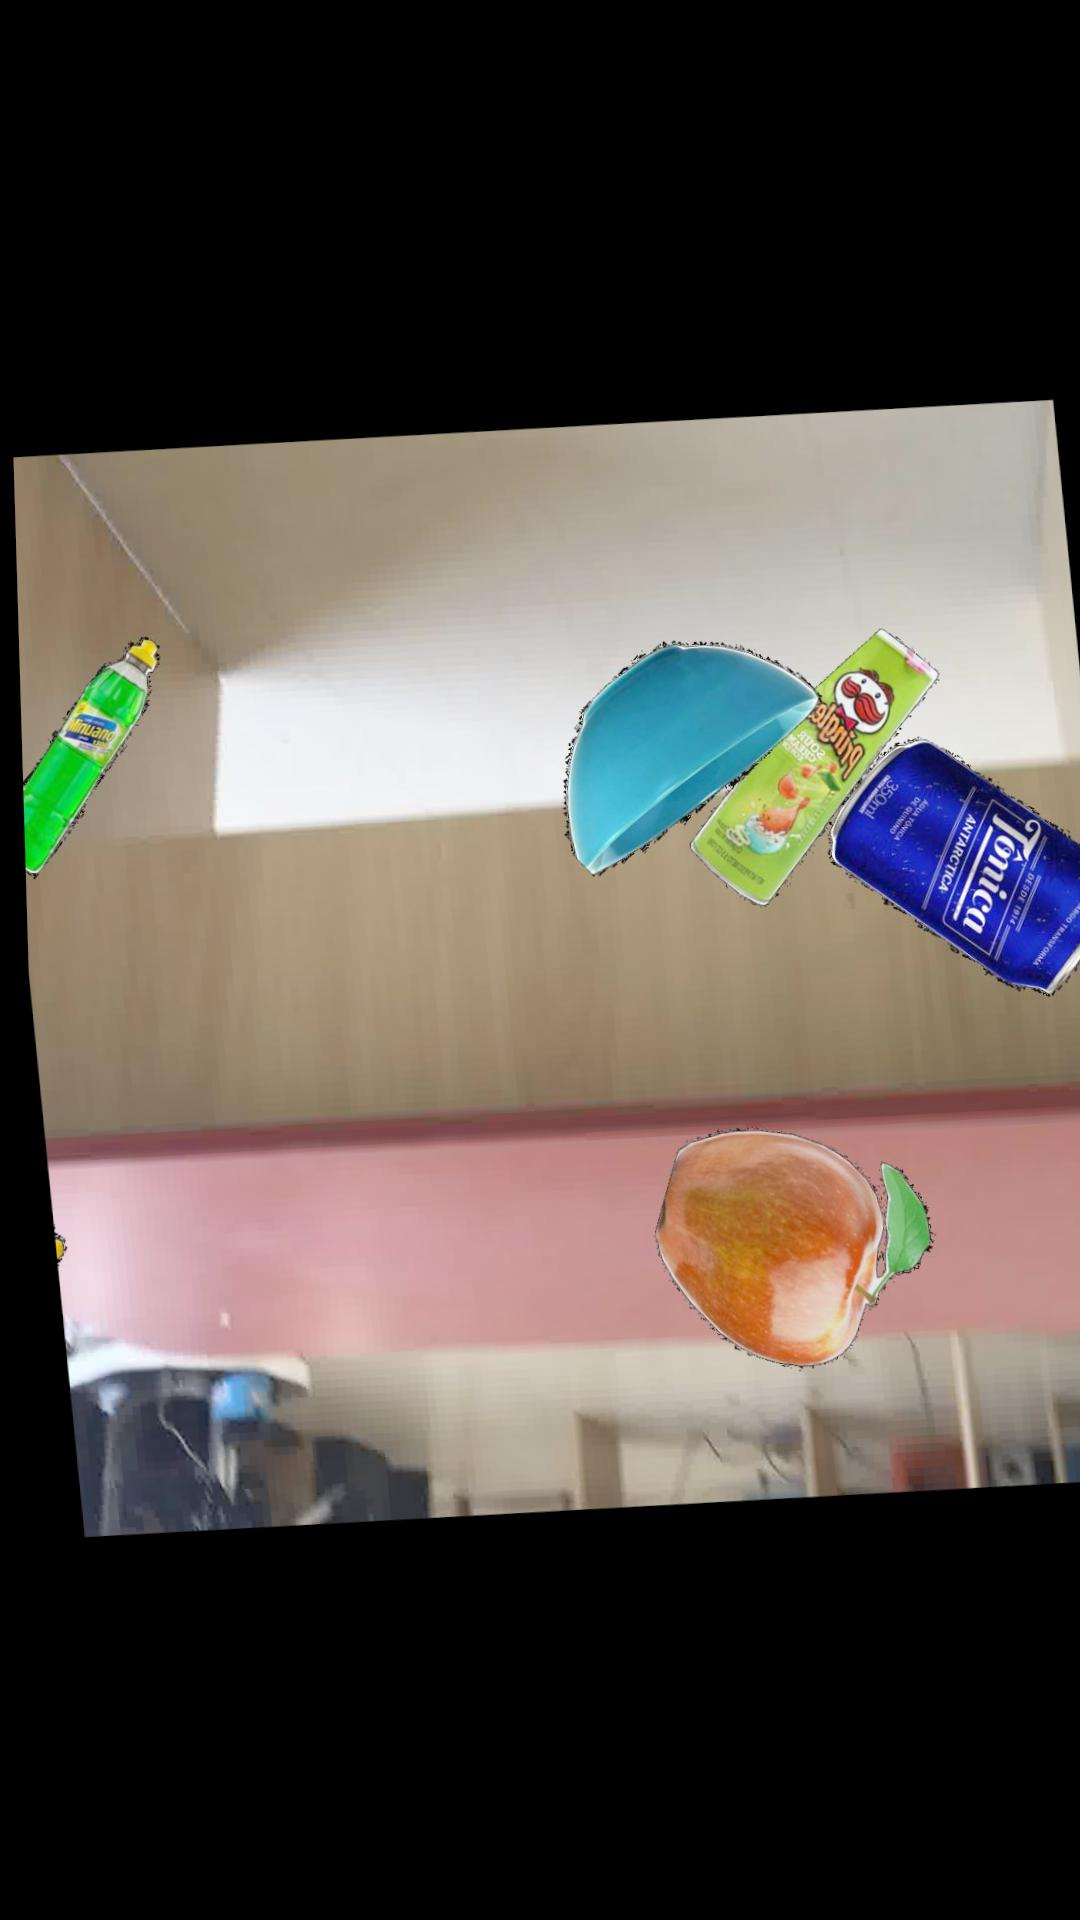apple: (645, 1124, 923, 1364)
bowl: (556, 637, 816, 872)
cleaner: (18, 634, 153, 877)
pringles: (682, 624, 932, 902)
tonic: (822, 733, 1080, 992)
